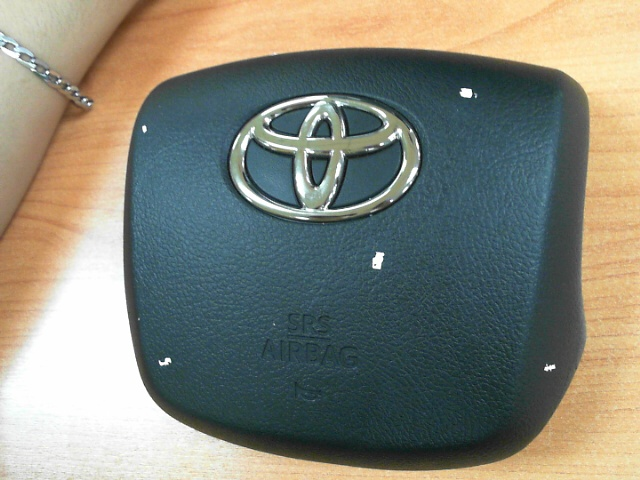Airbag: (371, 251, 385, 270), (458, 87, 478, 100), (157, 357, 173, 367), (543, 363, 556, 373), (141, 125, 147, 134)
